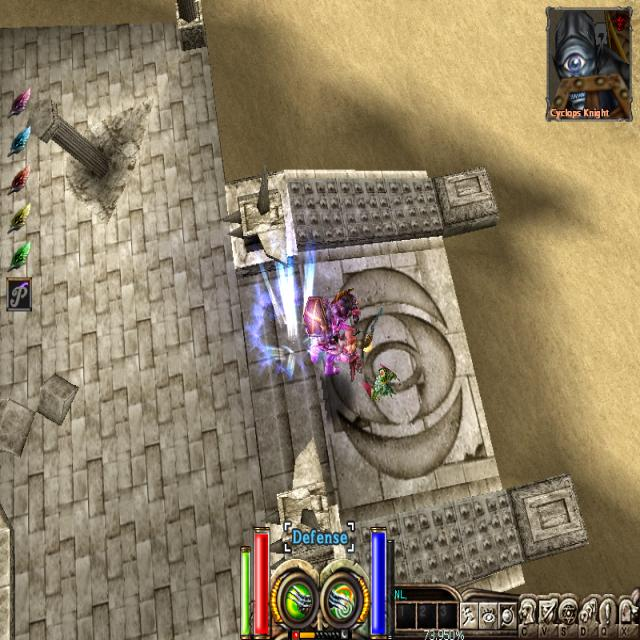monster: (366, 363, 400, 419)
